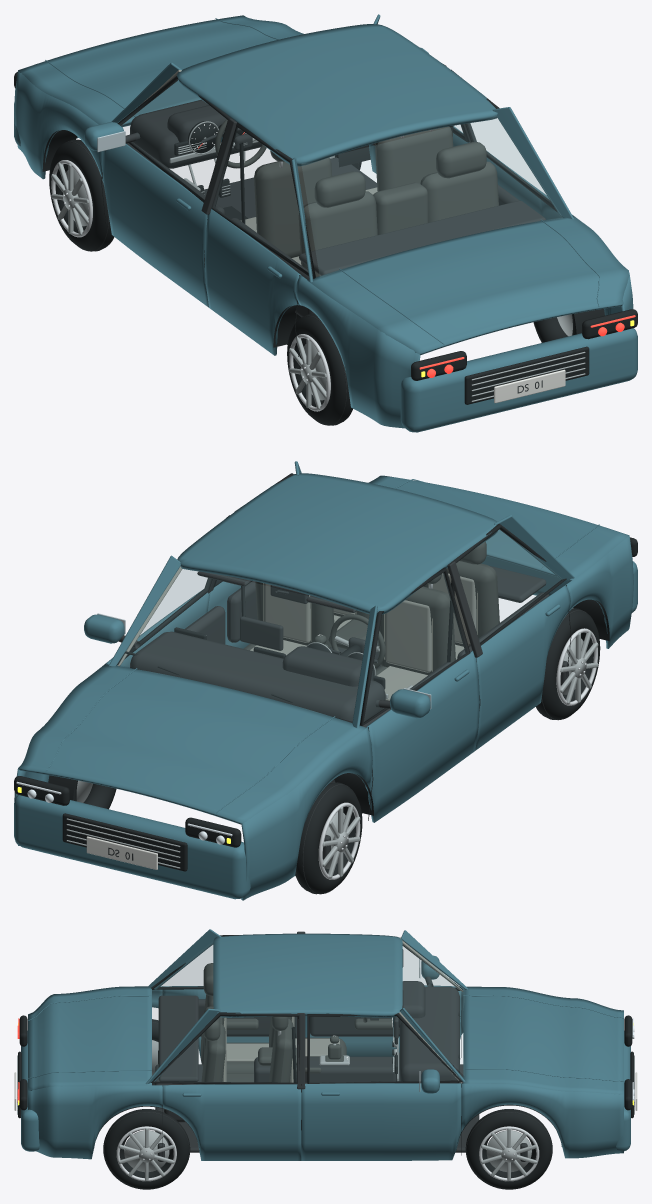
Rendered from DS_Sedan_A.fbx.
The picture shows the model from 3 angles, top to bottom: view 1: azimuth 30°, elevation 25°; view 2: azimuth 150°, elevation 25°; view 3: azimuth 270°, elevation 25°; orthographic projection. The views are drawn at different scales.
Parts seen in each view (by area): view 1: Roof, Trunk, Glass_Rear, Hood, DoorFront_L, BumperFacia_-1, DoorRear_L, RearQuarter_L, Glass_Rear_L, Glass_Front_L, RearParcelShelf, Backrest (+31 smaller); view 2: Hood, Roof, Glass_Windshield, DoorFront_L, BumperFacia_1, Dashboard, DoorRear_L, Trunk, Glass_Front_L, FrontWing_L, Glass_Rear_L, RearQuarter_L (+34 smaller); view 3: Roof, Hood, DoorFront_R, Trunk, DoorRear_R, Glass_Front_R, Glass_Rear_R, FrontWing_R, RearQuarter_R, Glass_Windshield, Glass_Rear, Dashboard (+31 smaller).
Boxes of the visible parts, x1,y1,x2,y2 form: Roof: [177, 24, 497, 166]; Trunk: [307, 215, 629, 355]; Glass_Rear: [302, 116, 561, 276]; Hood: [18, 15, 303, 126]; DoorFront_L: [101, 143, 208, 307]; BumperFacia_-1: [400, 328, 637, 432]; DoorRear_L: [204, 209, 301, 355]; RearQuarter_L: [295, 275, 420, 428]; Glass_Rear_L: [215, 128, 307, 271]; Glass_Front_L: [121, 81, 226, 198]; RearParcelShelf: [299, 200, 545, 275]; Backrest: [254, 157, 331, 257]; Hood: [18, 664, 366, 824]; Roof: [177, 473, 497, 614]; Glass_Windshield: [118, 567, 368, 720]; DoorFront_L: [366, 650, 479, 822]; BumperFacia_1: [14, 795, 250, 899]; Dashboard: [130, 631, 385, 722]; DoorRear_L: [475, 585, 570, 750]; Trunk: [368, 475, 628, 580]; Glass_Front_L: [364, 573, 465, 721]; FrontWing_L: [241, 727, 372, 900]; Glass_Rear_L: [457, 530, 561, 641]; RearQuarter_L: [565, 535, 633, 648]; Roof: [213, 933, 402, 1017]; Hood: [463, 986, 623, 1094]; DoorFront_R: [301, 1083, 461, 1160]; Trunk: [28, 986, 151, 1090]; DoorRear_R: [162, 1084, 301, 1160]; Glass_Front_R: [310, 1017, 457, 1081]; Glass_Rear_R: [156, 1016, 296, 1081]; FrontWing_R: [461, 1083, 623, 1158]; RearQuarter_R: [28, 1085, 162, 1159]; Glass_Windshield: [403, 945, 463, 1074]; Glass_Rear: [150, 942, 212, 1075]; Dashboard: [400, 986, 459, 1083].
Bounding box in the file's own units: 225 × 468 × 146.
